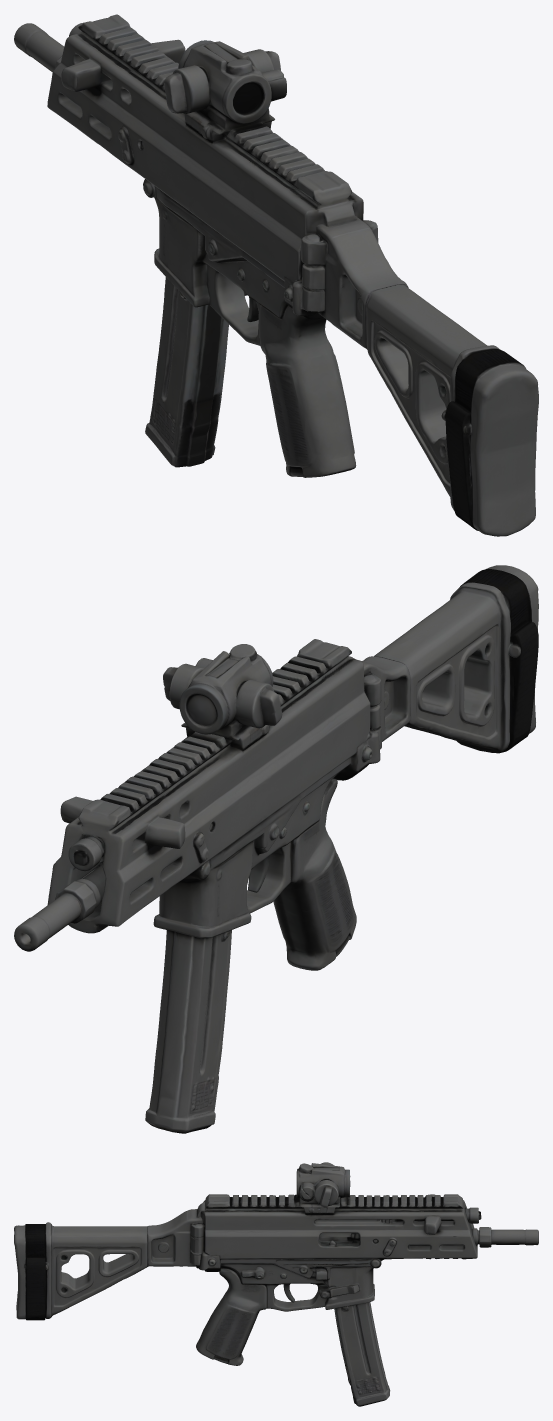
Rendered from w_SMG9-PMJ74IPN.glb.
3 renders of one model, top to bottom at view 1: azimuth 30°, elevation 25°; view 2: azimuth 150°, elevation 25°; view 3: azimuth 270°, elevation 25°, orthographic. The views are drawn at different scales.
Bounding box in the file's own units: 0.135 × 0.4733 × 0.95.
Materials: 1 (1 with a texture image).
